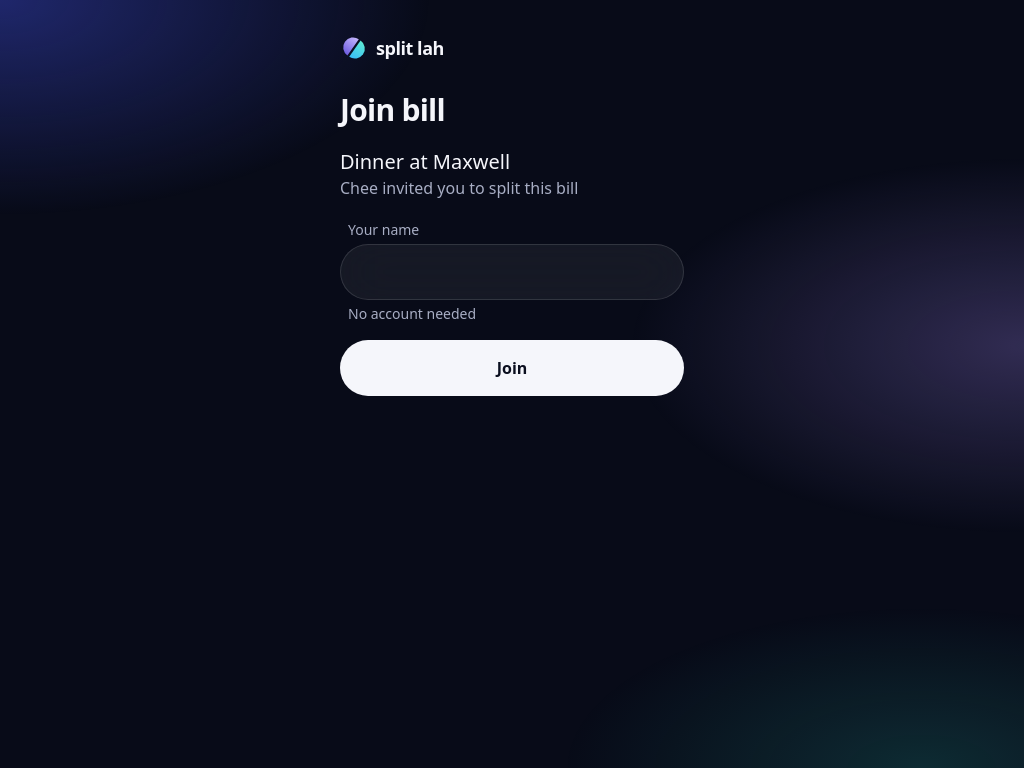
Joining a bill from the link › asks for a name once, joins without an account and shows the items
Expected: the text "Chee invited you to split this bill" is shown, [340,148,578,199]
Step 1. Type " Ali " into the field labelled "Your name" → x=512, y=272, box [340,244,684,300]
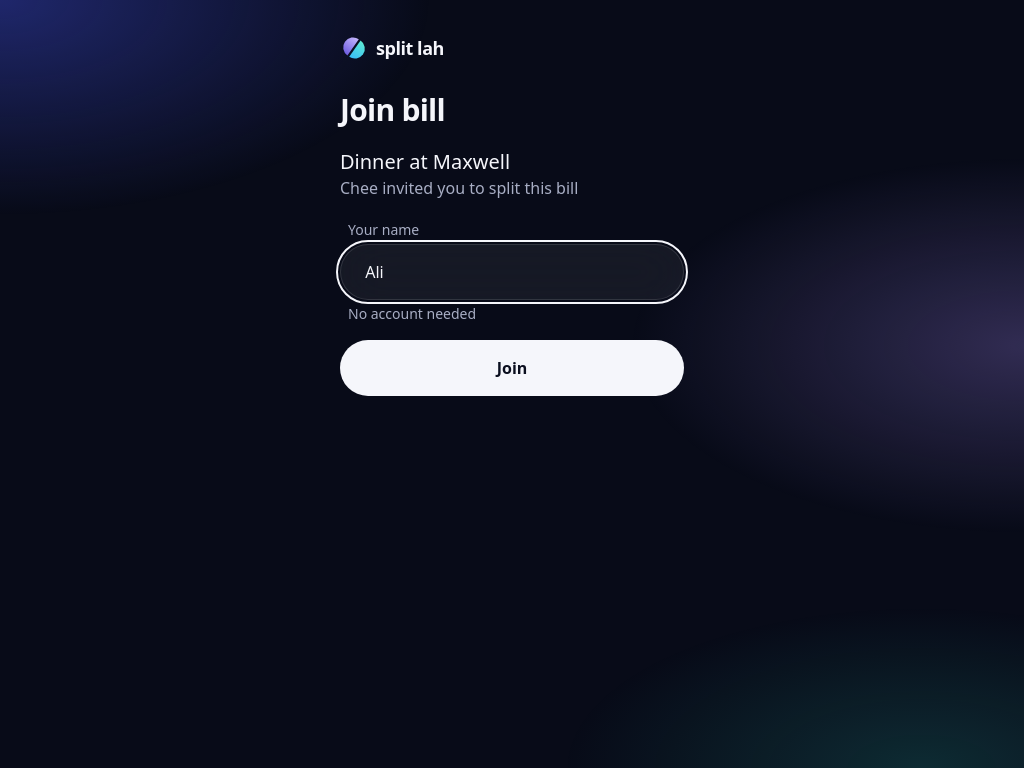
Step 2. Click the button "Join" → x=512, y=368, box [340,340,684,396]
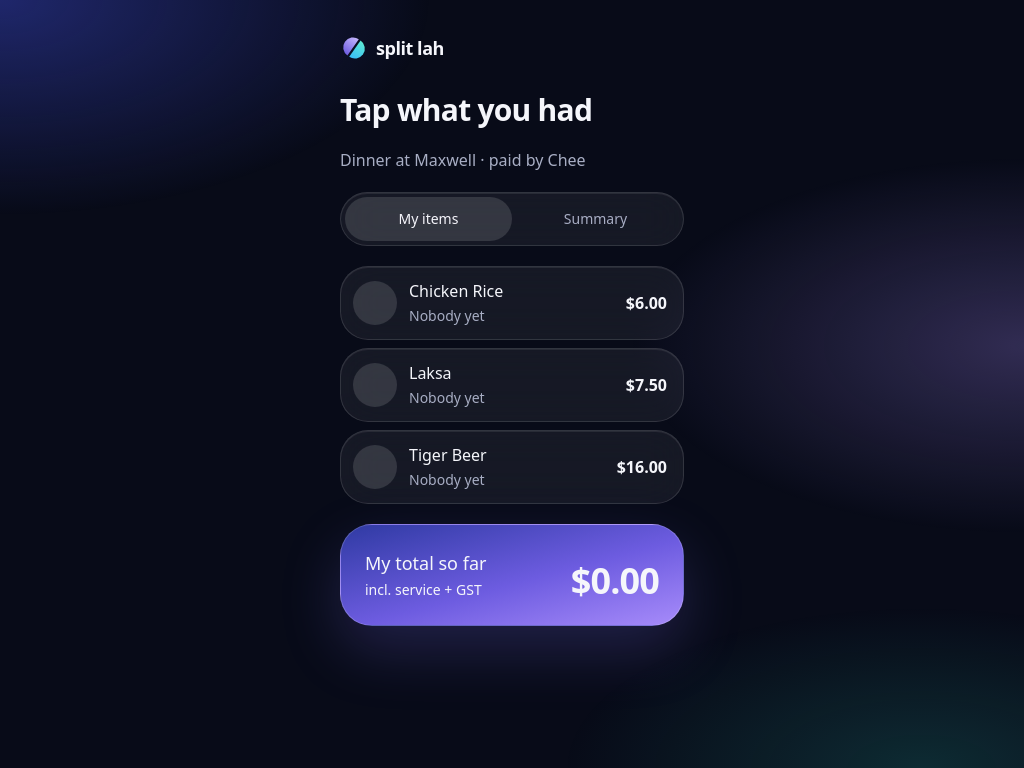
Expected: the heading "Tap what you had" is shown, [340,89,592,130]
